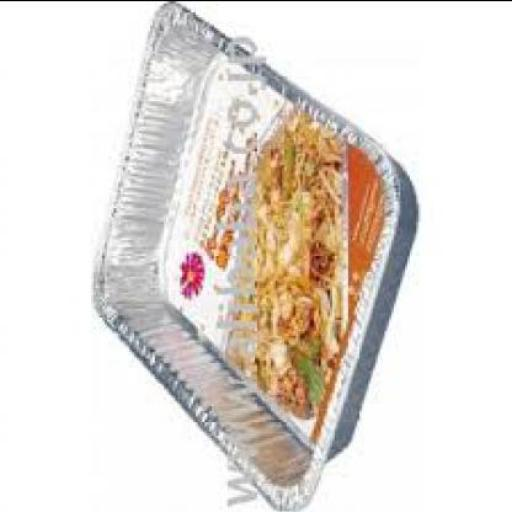biodegradable: (218, 109, 352, 425)
metal: (88, 2, 420, 511)
